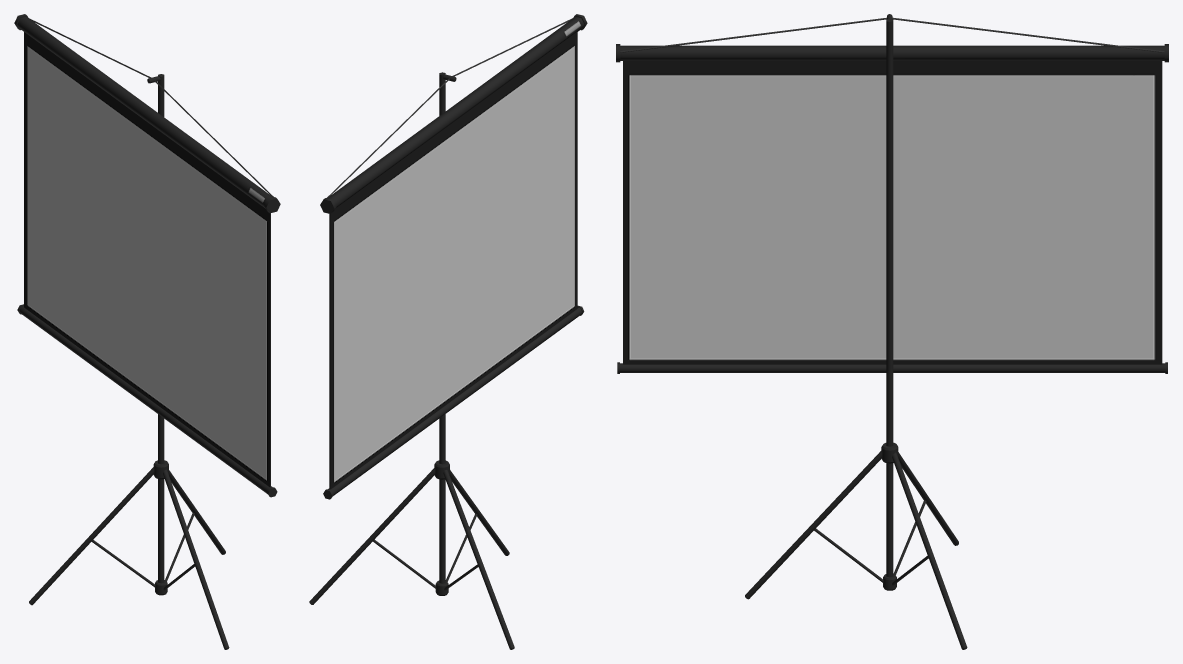
File: projector screen.FBX
3 renders of one model, left to right at view 1: azimuth 30°, elevation 25°; view 2: azimuth 150°, elevation 25°; view 3: azimuth 270°, elevation 25°, orthographic. The views are drawn at different scales.
Parts seen in each view (by area): view 1: projector screen; view 2: projector screen; view 3: projector screen.
Part boxes in pixels (box(x1,y1,x2,y2)): projector screen: box(14, 14, 280, 649); projector screen: box(309, 14, 587, 649); projector screen: box(616, 14, 1168, 649).
Bounding box in the file's own units: 34.23 × 74.67 × 86.16.
Materials: 1 (1 with a texture image).
